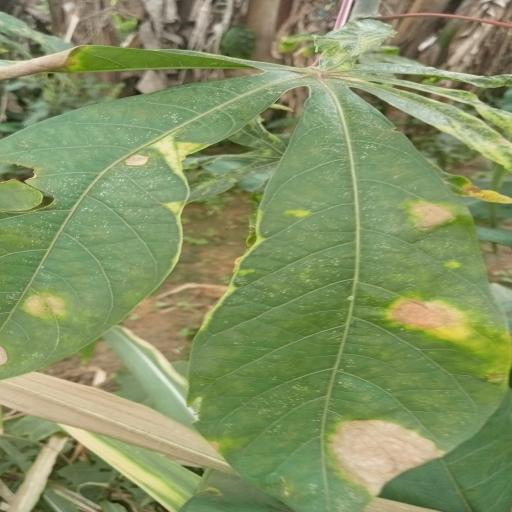Cassava_Root_Rot: (3, 40, 512, 498)
